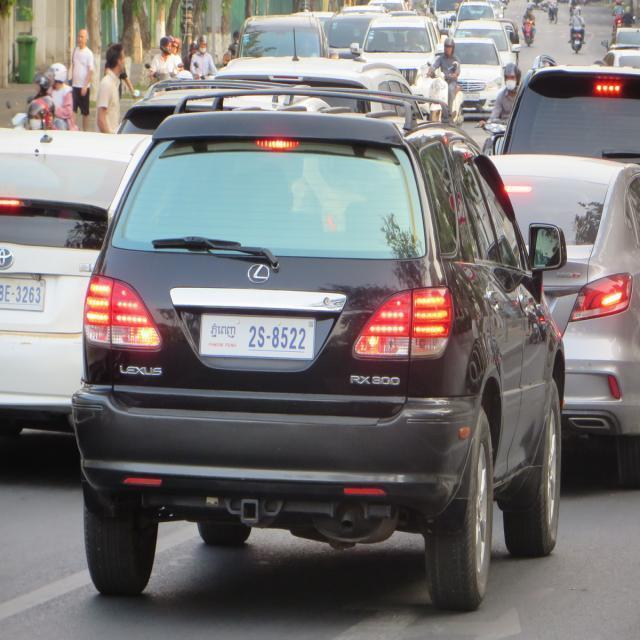Phnom_Penh: (209, 320, 239, 340)
